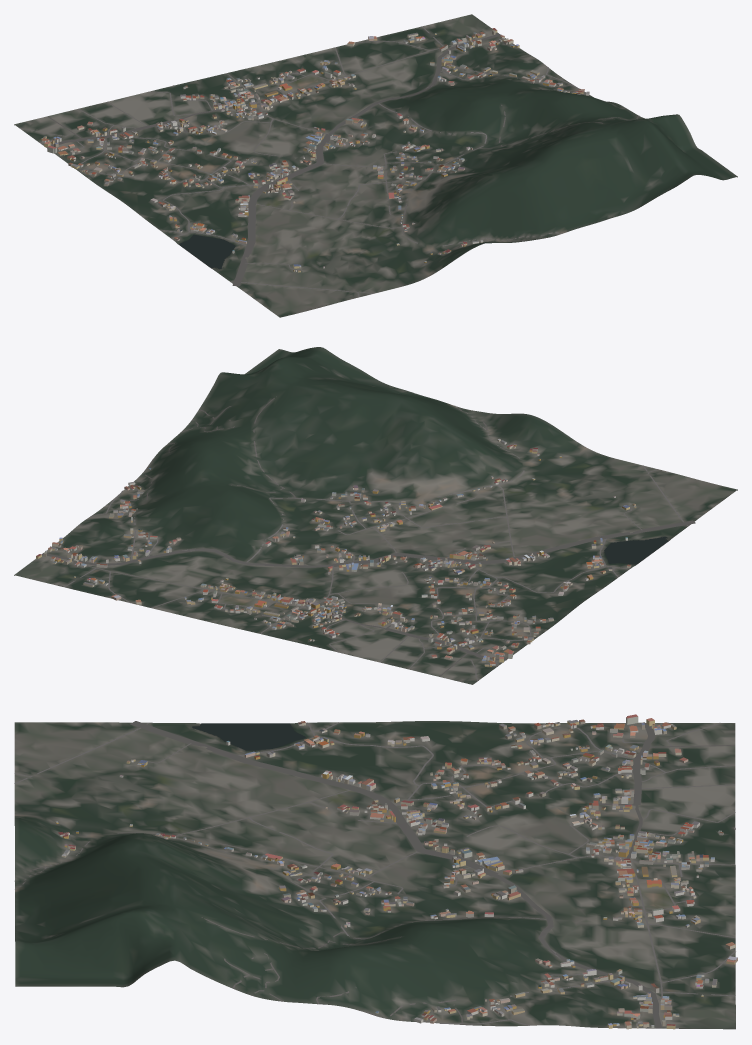
3 renders of one model, top to bottom at view 1: azimuth 30°, elevation 25°; view 2: azimuth 150°, elevation 25°; view 3: azimuth 270°, elevation 25°, orthographic. The views are drawn at different scales.
Parts seen in each view (by area): view 1: ground, buildings, roads, water; view 2: ground, buildings, roads, water; view 3: ground, buildings, roads, water.
Boxes of the visible parts, x1,y1,x2,y2 form: ground: [14, 14, 737, 317]; buildings: [41, 28, 589, 272]; roads: [19, 26, 639, 297]; water: [179, 234, 235, 269]; ground: [14, 347, 737, 684]; buildings: [36, 439, 636, 666]; roads: [42, 396, 695, 680]; water: [604, 536, 668, 564]; ground: [14, 721, 735, 1029]; buildings: [55, 714, 737, 1029]; roads: [14, 721, 735, 1028]; water: [192, 723, 305, 750].
Size of the model in its own units: 1411 by 190 by 1408.
